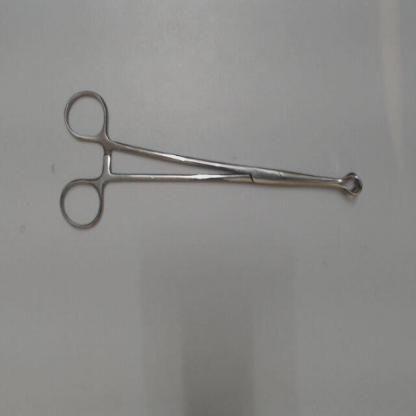8 Babcock Tissue Forceps: (54, 80, 370, 235)
